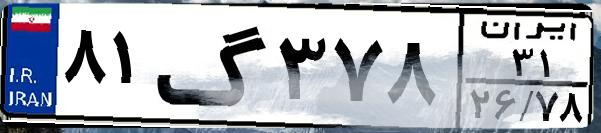1: (110, 28, 156, 98), (537, 27, 568, 80)
2: (470, 70, 495, 125)
3: (270, 28, 330, 110), (508, 27, 537, 80)
6: (495, 70, 520, 125)
7: (330, 28, 385, 110), (535, 70, 560, 125)
8: (385, 28, 445, 110), (57, 26, 110, 100), (560, 70, 590, 125)
گ: (156, 12, 270, 120)
